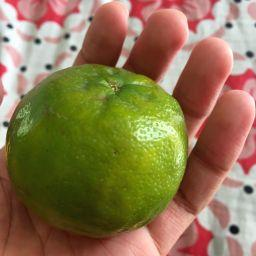Unripe: (7, 64, 189, 241)
